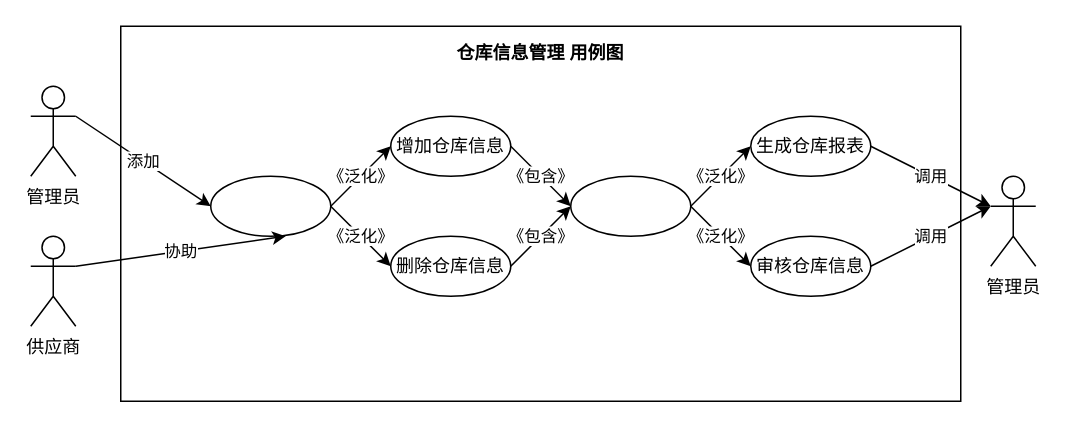
The diagram is 1065 pixels wide and 428 high, and some of its shapes have lost their labels. Here are the shapes that lost their labels. From the top down, the centre of each, then its label:
At (x=270, y=205): "仓库信息修改".
At (x=630, y=205): "更新仓库信息".
